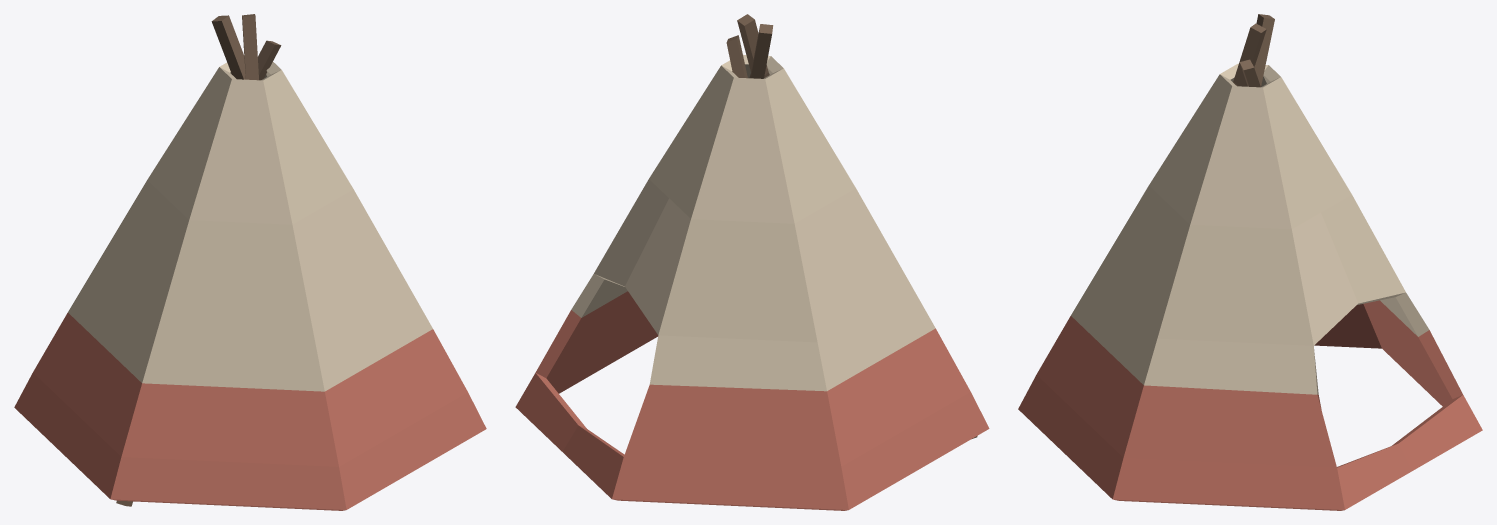
Rendered from Vigvam_1.fbx.
3 renders of one model, left to right at view 1: azimuth 30°, elevation 25°; view 2: azimuth 150°, elevation 25°; view 3: azimuth 270°, elevation 25°, orthographic.
Parts seen in each view (by area): view 1: Vigvam_1; view 2: Vigvam_1; view 3: Vigvam_1.
Boxes of the visible parts, bbox=[...] form: Vigvam_1: bbox=[14, 14, 486, 510]; Vigvam_1: bbox=[515, 14, 989, 510]; Vigvam_1: bbox=[1018, 14, 1482, 510].
Size of the model in its own units: 256 by 278 by 269.
